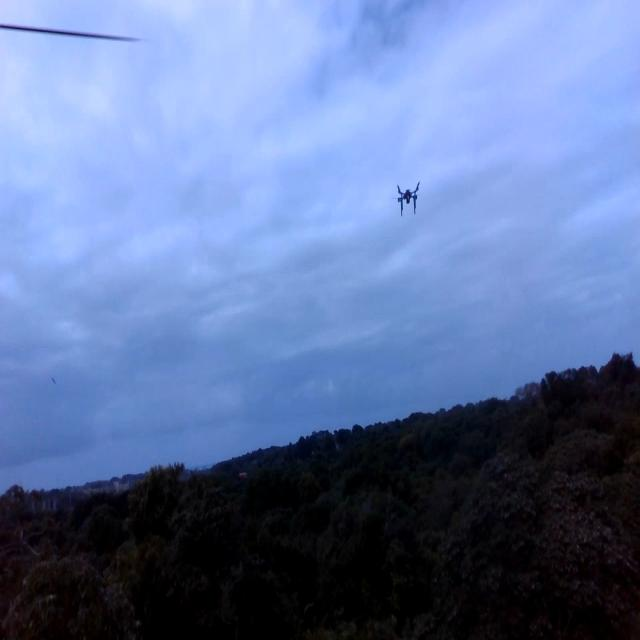-uav-: (389, 173, 428, 228)
